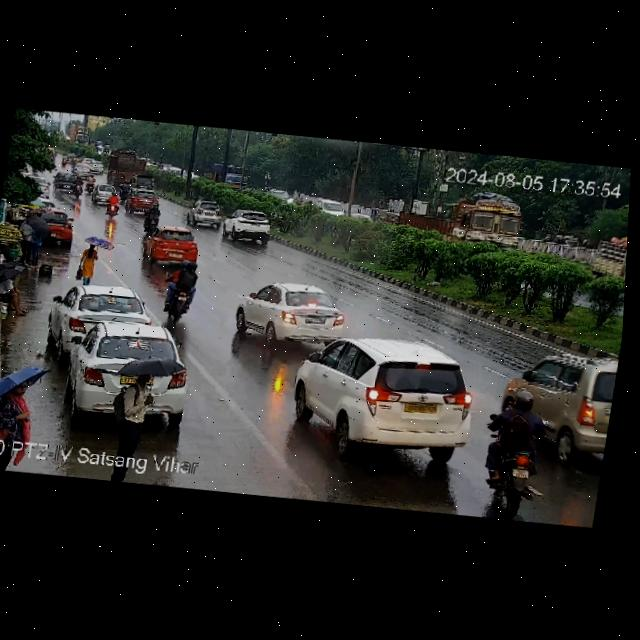car: (282, 328, 492, 471), (51, 318, 189, 428), (500, 344, 619, 461), (222, 275, 352, 348), (46, 279, 156, 350), (136, 223, 205, 271), (22, 204, 78, 246), (219, 208, 279, 245), (13, 196, 59, 223), (185, 198, 226, 228), (125, 191, 160, 215), (314, 197, 346, 219), (128, 174, 158, 193), (29, 173, 51, 196), (53, 168, 74, 192), (92, 180, 112, 203), (86, 160, 106, 173), (73, 155, 91, 166), (73, 163, 90, 173)
motorcycle: (473, 386, 557, 507), (162, 253, 203, 320), (141, 200, 161, 231), (104, 191, 121, 218), (71, 172, 84, 196), (118, 178, 129, 204), (83, 173, 96, 193), (118, 180, 130, 200), (60, 154, 67, 167)
person: (113, 372, 165, 454), (0, 372, 40, 429), (0, 269, 34, 316), (15, 212, 37, 264), (74, 241, 101, 282), (26, 221, 48, 269)
truck: (374, 189, 531, 251), (587, 232, 628, 276), (104, 151, 148, 185)
